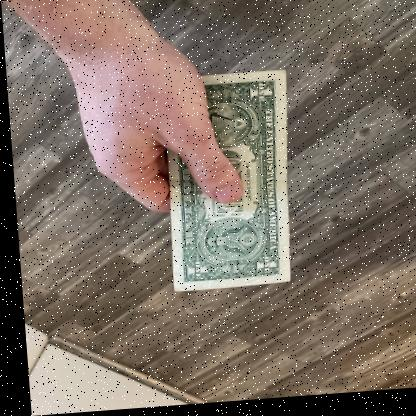one-back: (153, 72, 294, 294)
